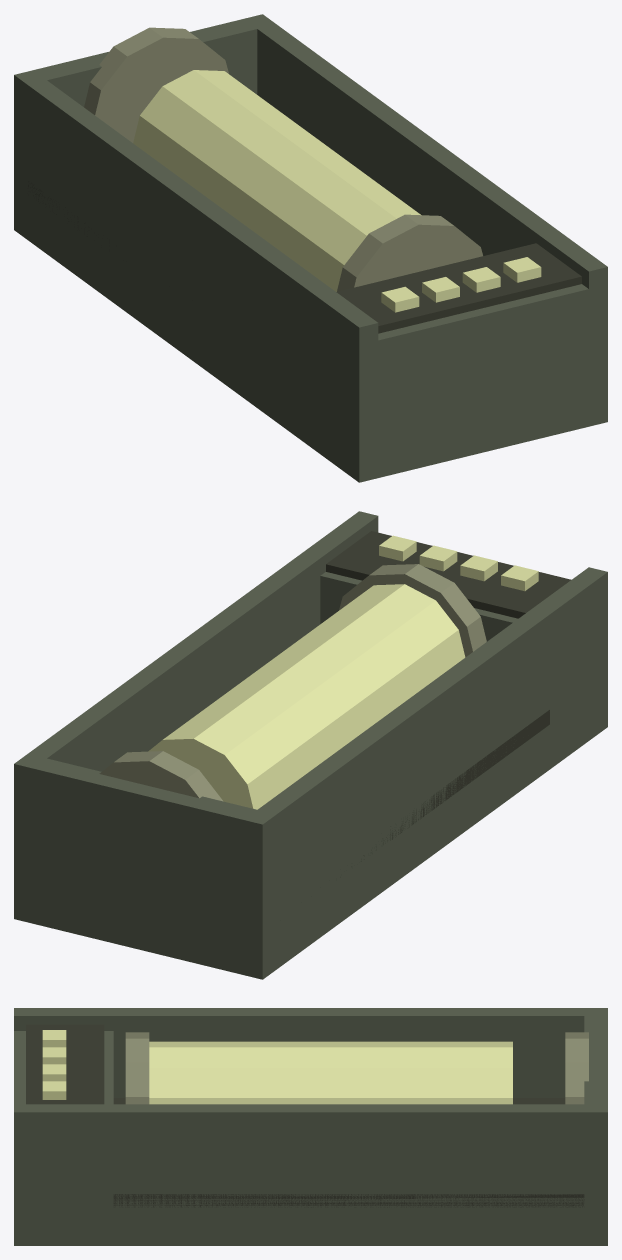
Rendered from quest_vanometric_power_cell.obj.
3 renders of one model, top to bottom at view 1: azimuth 30°, elevation 25°; view 2: azimuth 150°, elevation 25°; view 3: azimuth 270°, elevation 25°, orthographic. The views are drawn at different scales.
Visible parts, largest first — view 1: quest_vanometric_power_cell; view 2: quest_vanometric_power_cell; view 3: quest_vanometric_power_cell.
Part boxes in pixels (x1,y1,x2,y2): quest_vanometric_power_cell: [14, 14, 607, 482]; quest_vanometric_power_cell: [14, 511, 607, 979]; quest_vanometric_power_cell: [14, 1008, 607, 1245].
Bounding box in the file's own units: 1.04 × 0.72 × 2.5.
